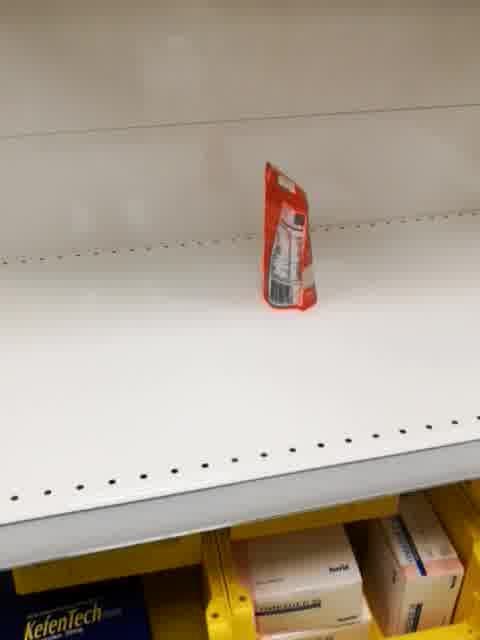whitechia: (258, 156, 318, 313)
